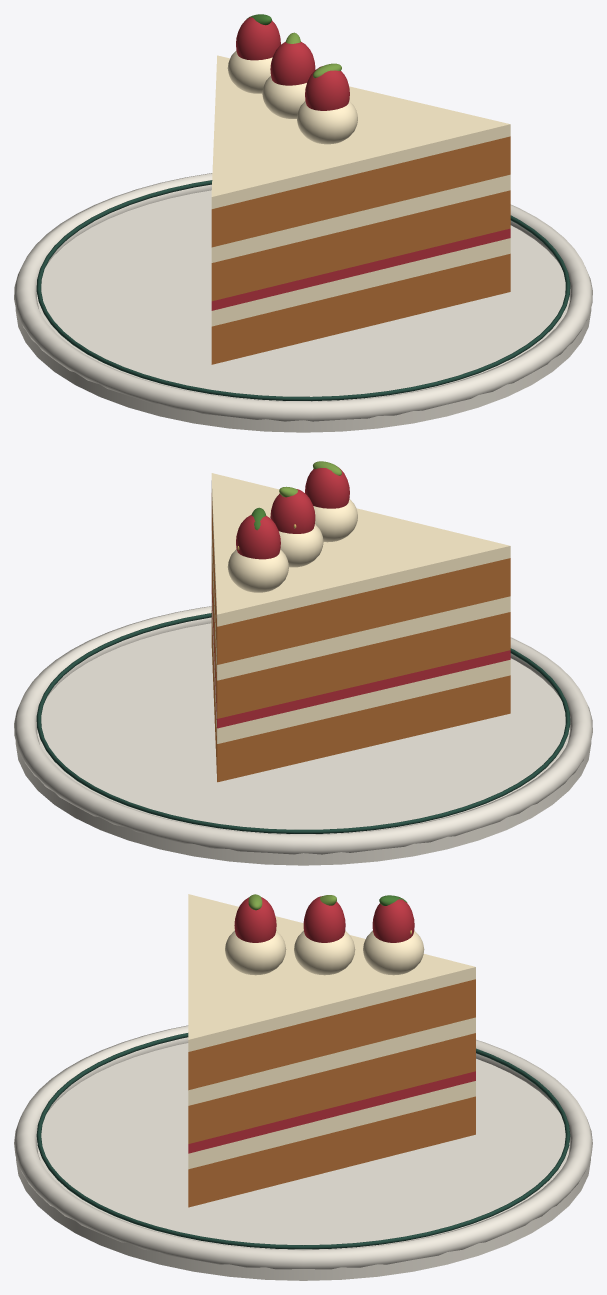
File: cake-regular.glb
The picture shows the model from 3 angles, top to bottom: view 1: azimuth 30°, elevation 25°; view 2: azimuth 150°, elevation 25°; view 3: azimuth 270°, elevation 25°; orthographic projection.
Parts seen in each view (by area): view 1: Morsel original cake regular; view 2: Morsel original cake regular; view 3: Morsel original cake regular.
Boxes of the visible parts, bbox=[...] form: Morsel original cake regular: bbox=[14, 17, 592, 432]; Morsel original cake regular: bbox=[14, 468, 592, 865]; Morsel original cake regular: bbox=[14, 894, 592, 1280].
Bounding box in the file's own units: 3.02 × 1.53 × 3.02.
